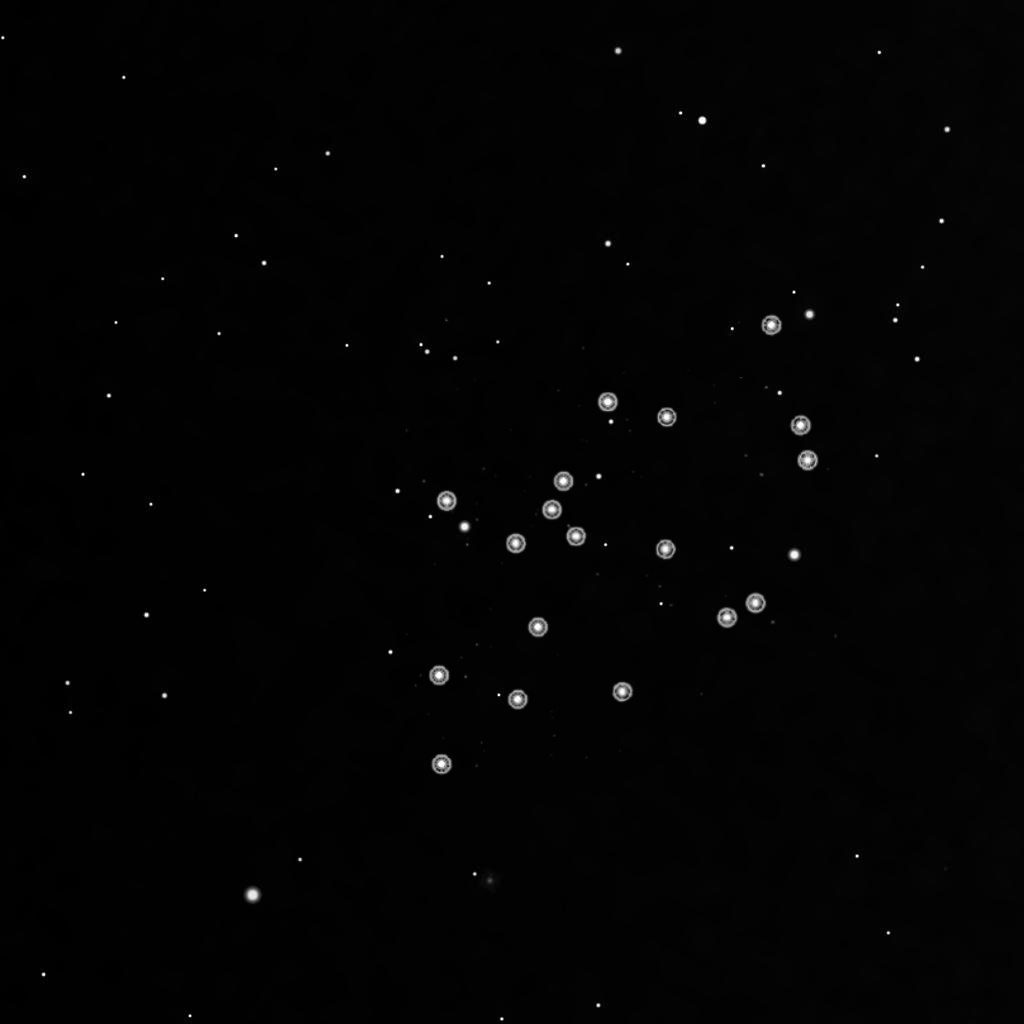canis_major: (499, 387, 681, 559)
